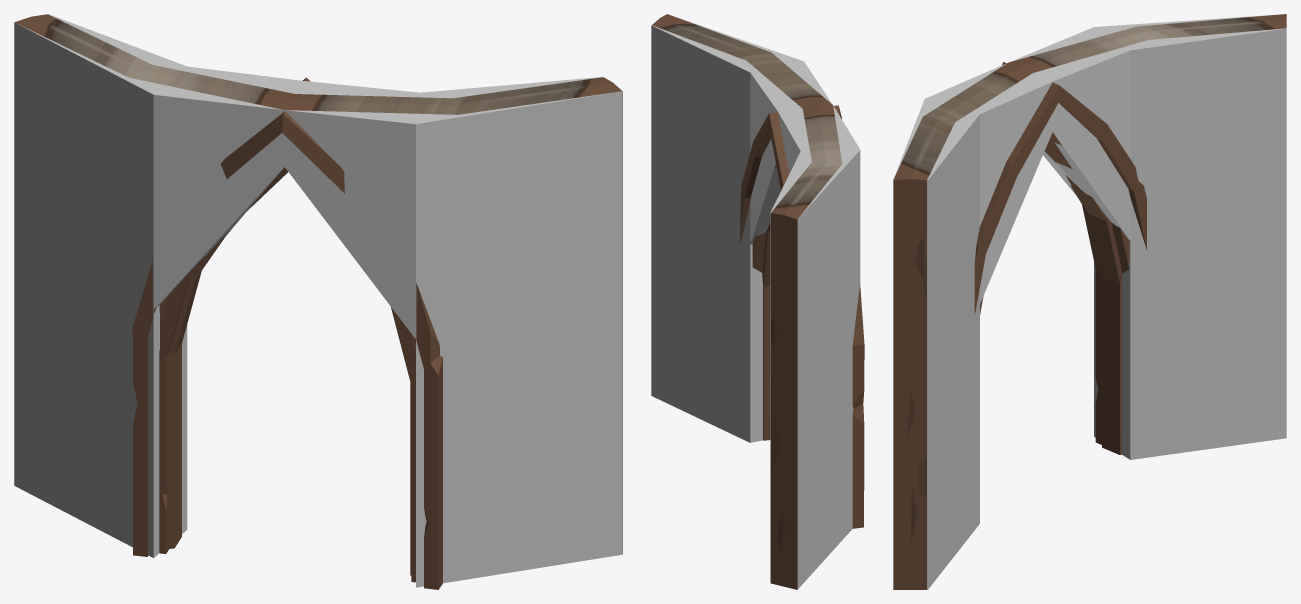
The model's file is SM_Bld_Wall_Doorway_Curved_01.fbx.
3 views of the same model, side by side, from view 1: azimuth 30°, elevation 25°; view 2: azimuth 150°, elevation 25°; view 3: azimuth 270°, elevation 25° (orthographic). The views are drawn at different scales.
Parts seen in each view (by area): view 1: SM_Bld_Wall_Doorway_Curved_01_ConvexHulls, SM_Bld_Wall_Doorway_Curved_01; view 2: SM_Bld_Wall_Doorway_Curved_01_ConvexHulls, SM_Bld_Wall_Doorway_Curved_01; view 3: SM_Bld_Wall_Doorway_Curved_01_ConvexHulls, SM_Bld_Wall_Doorway_Curved_01.
Boxes of the visible parts, left/top/right/bottom form: SM_Bld_Wall_Doorway_Curved_01_ConvexHulls: left=14, top=14, right=621, bottom=587; SM_Bld_Wall_Doorway_Curved_01: left=14, top=14, right=622, bottom=589; SM_Bld_Wall_Doorway_Curved_01_ConvexHulls: left=651, top=15, right=860, bottom=589; SM_Bld_Wall_Doorway_Curved_01: left=652, top=14, right=864, bottom=589; SM_Bld_Wall_Doorway_Curved_01_ConvexHulls: left=894, top=14, right=1286, bottom=589; SM_Bld_Wall_Doorway_Curved_01: left=893, top=14, right=1286, bottom=589.
Bounding box in the file's own units: 261 × 261 × 301.
3 materials, 2 textured.
